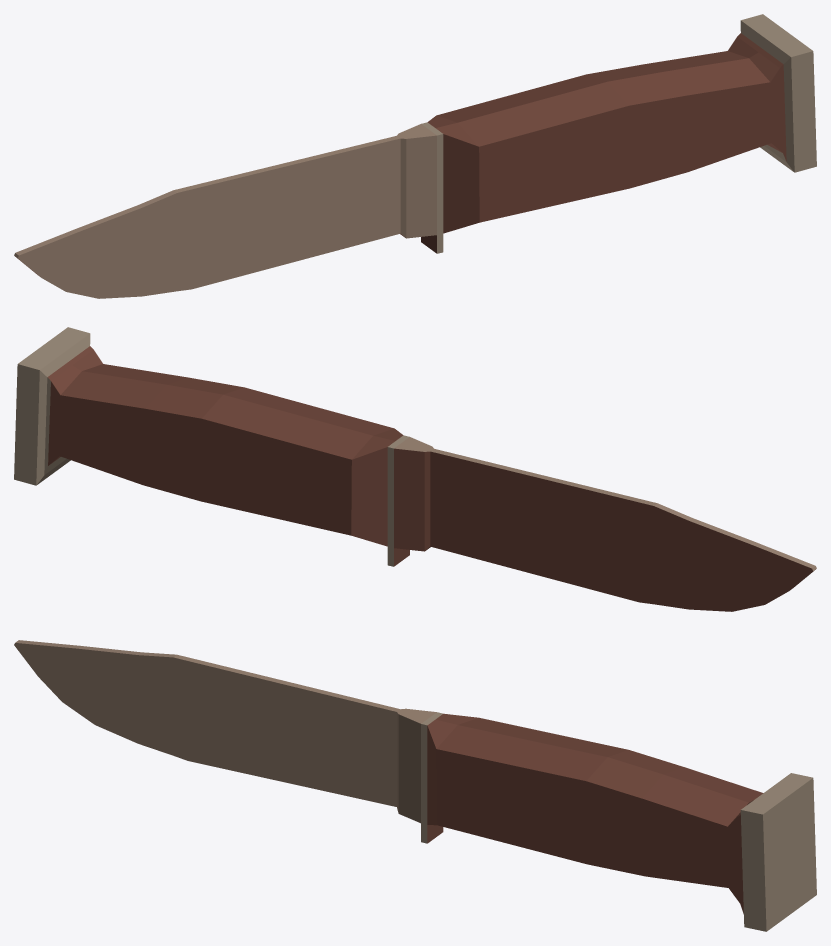
File: ranged level 1 knife.fbx
3 views of the same model, one above another, from view 1: azimuth 30°, elevation 25°; view 2: azimuth 150°, elevation 25°; view 3: azimuth 330°, elevation 25° (orthographic).
Parts seen in each view (by area): view 1: Cube; view 2: Cube; view 3: Cube.
Part boxes in pixels (left/top/right/bottom): Cube: left=14, top=14, right=816, bottom=298; Cube: left=14, top=327, right=816, bottom=611; Cube: left=14, top=640, right=816, bottom=931.
Bounding box in the file's own units: 429 × 67.6 × 48.35.
